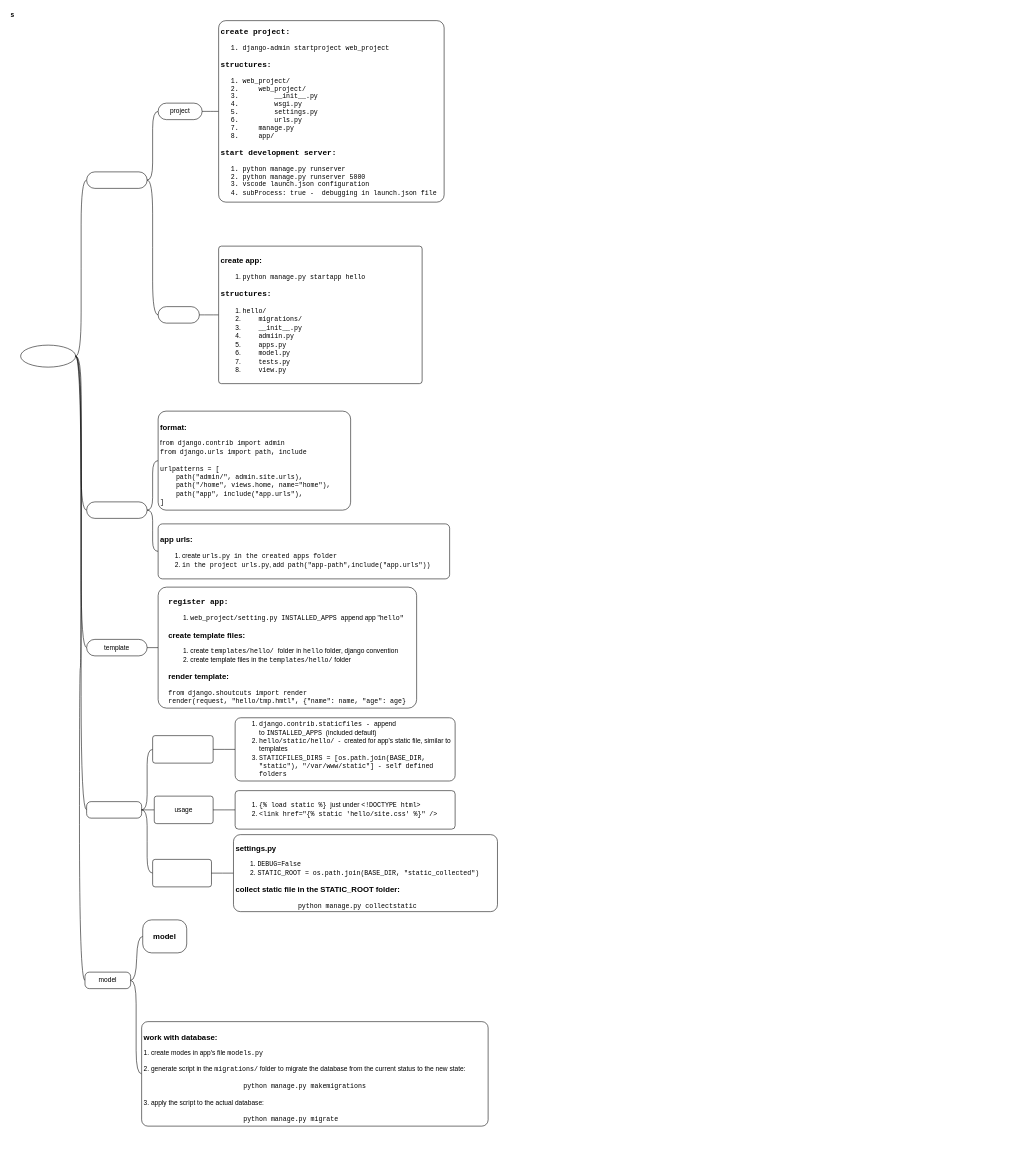
This 1024x1171 diagram has some shape labels left out. The centre of each missing label's shape, as x and y in pixels:
apps: [178,314]
deployment: [181,873]
django: [48,356]
management: [116,179]
setting: [182,749]
static file: [114,809]
url: [116,509]
